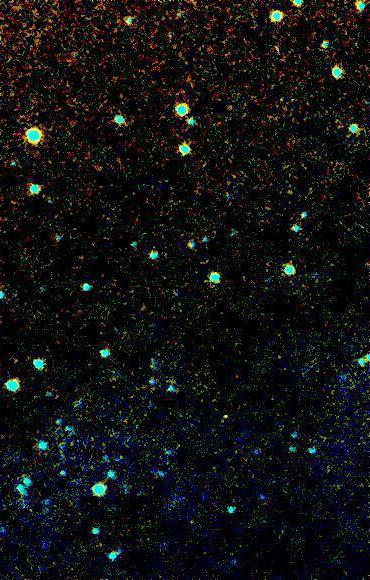star: (210, 396, 240, 426)
